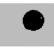correct: (22, 8, 45, 32)
